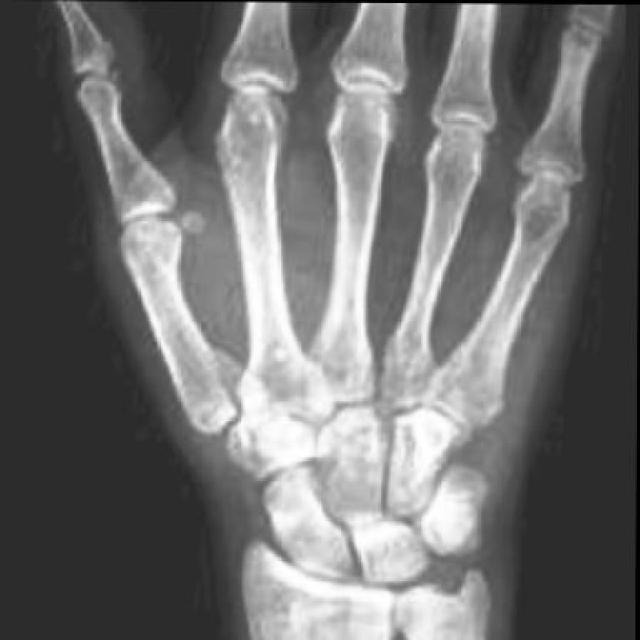Fracture: (183, 345, 264, 433)
